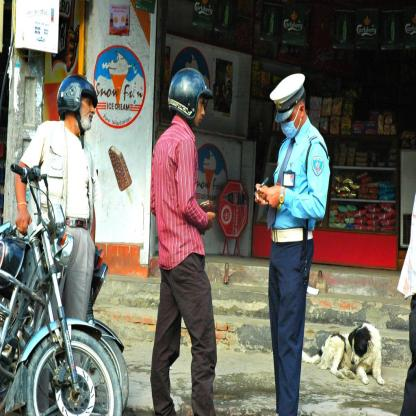Helmet: (56, 75, 99, 150), (164, 67, 219, 125)
